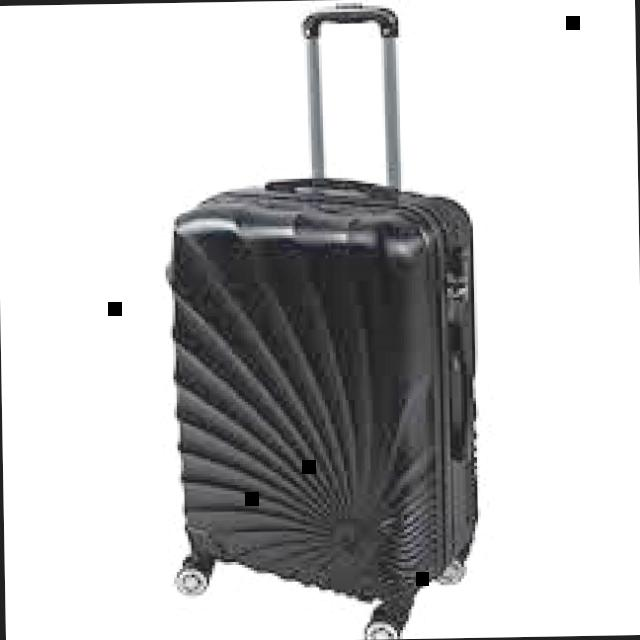luggage: (154, 166, 494, 616)
